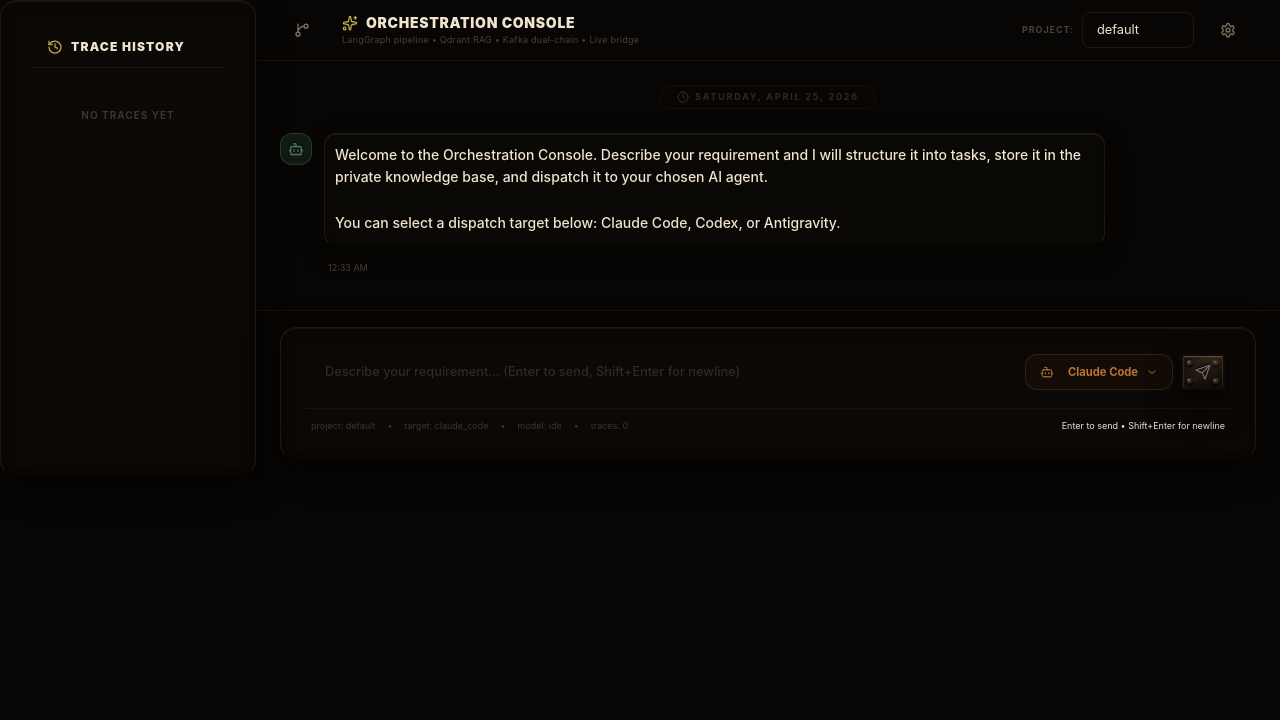
Test: C. Message Dispatch › text SSE event renders its content in the assistant bubble
Expected: the text "Welcome to the Orchestration Console" is shown, [335, 146, 1085, 231]
Replace the text in the text box with "Hello": (662, 372) [311, 354, 1013, 390]
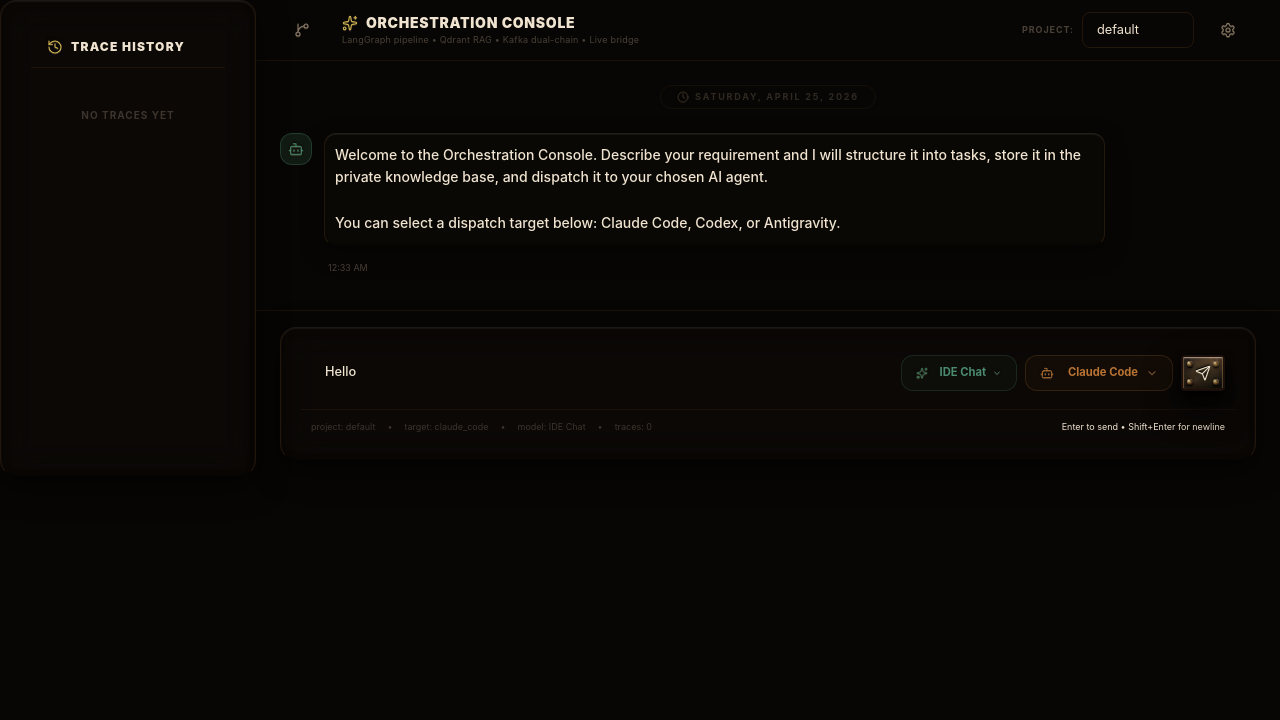
Press Enter in the text box, box [311, 354, 888, 390]
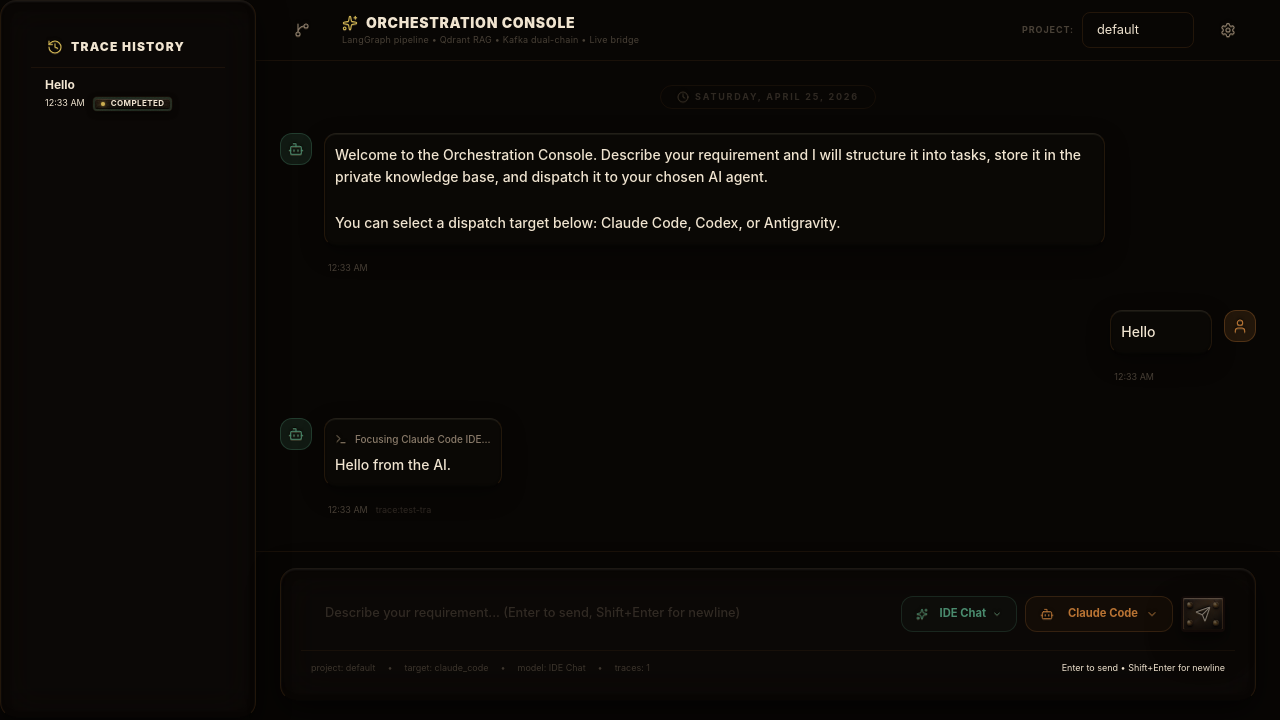
Expected: the text "Hello from the AI." is shown, [335, 456, 451, 472]
